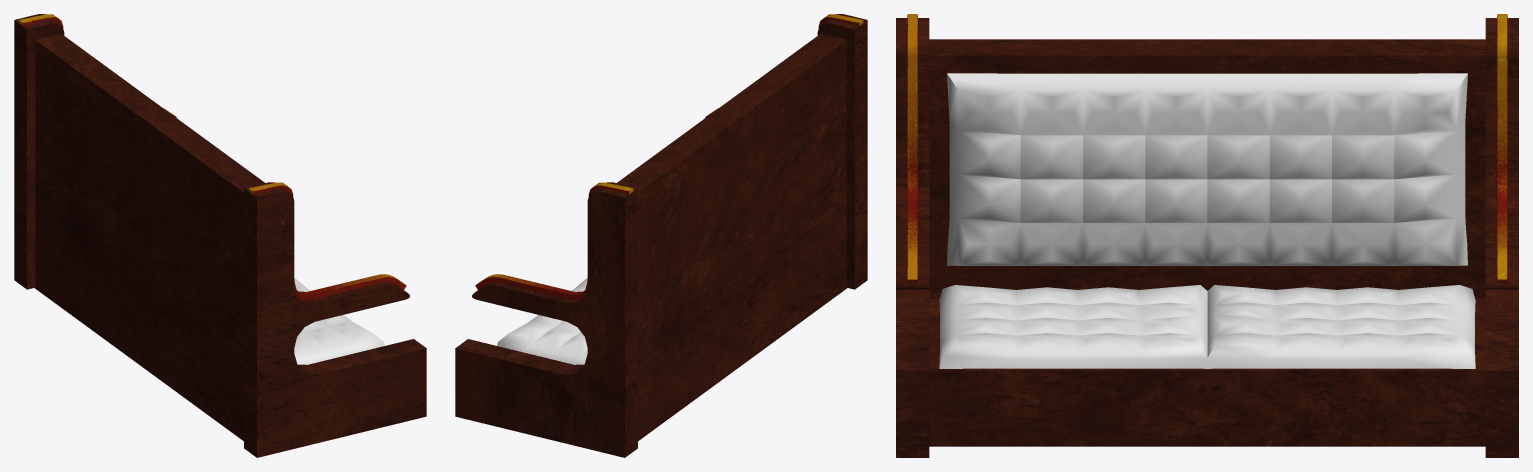
File: Poltrona.fbx
The picture shows the model from 3 angles, left to right: view 1: azimuth 30°, elevation 25°; view 2: azimuth 150°, elevation 25°; view 3: azimuth 270°, elevation 25°; orthographic projection. The views are drawn at different scales.
Parts seen in each view (by area): view 1: Poltrona; view 2: Poltrona; view 3: Poltrona.
Boxes of the visible parts, left/top/right/bottom form: Poltrona: left=14, top=14, right=426, bottom=457; Poltrona: left=455, top=14, right=867, bottom=457; Poltrona: left=896, top=14, right=1518, bottom=457.
Size of the model in its own units: 87.58 by 130 by 217.
